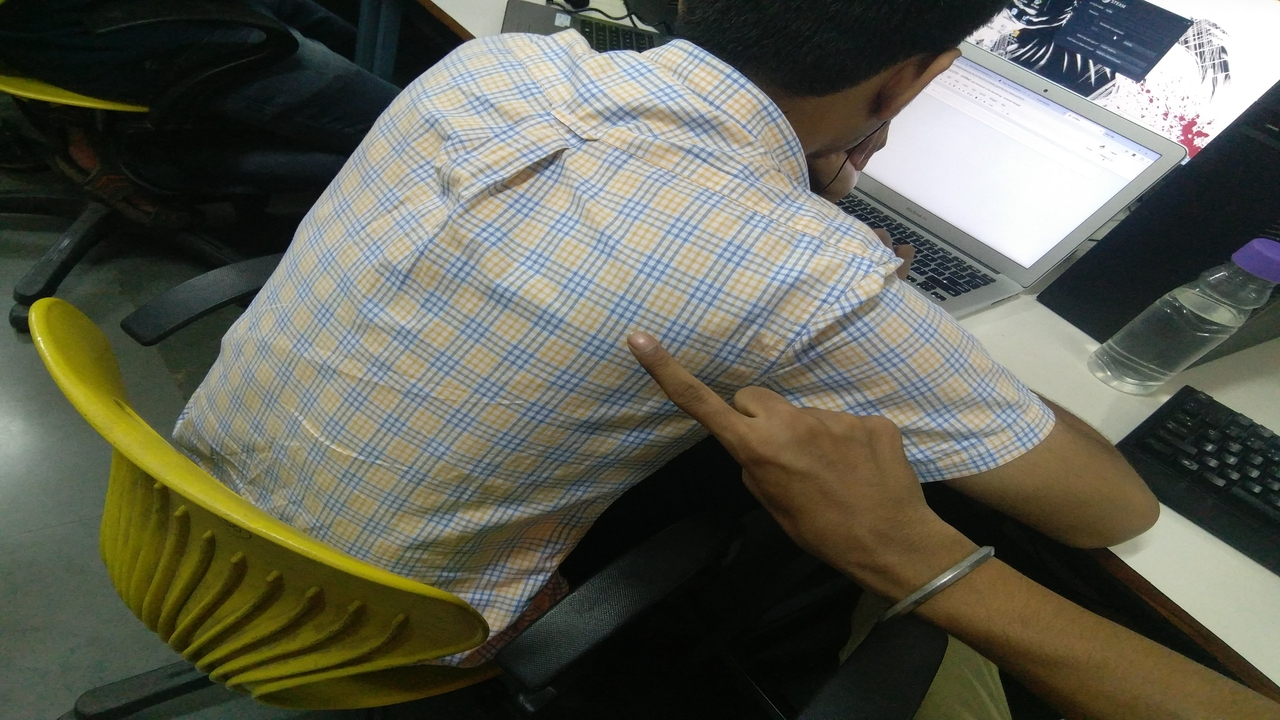fingertip: (614, 324, 678, 370)
